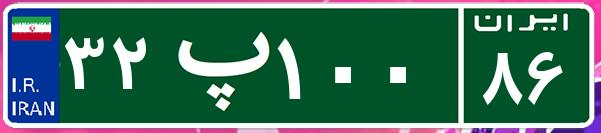0: (385, 28, 445, 110), (330, 28, 385, 110)
1: (273, 28, 330, 110)
2: (110, 28, 158, 105)
3: (57, 26, 110, 107)
6: (525, 38, 570, 115)
8: (475, 38, 525, 113)
پ: (158, 15, 273, 115)
